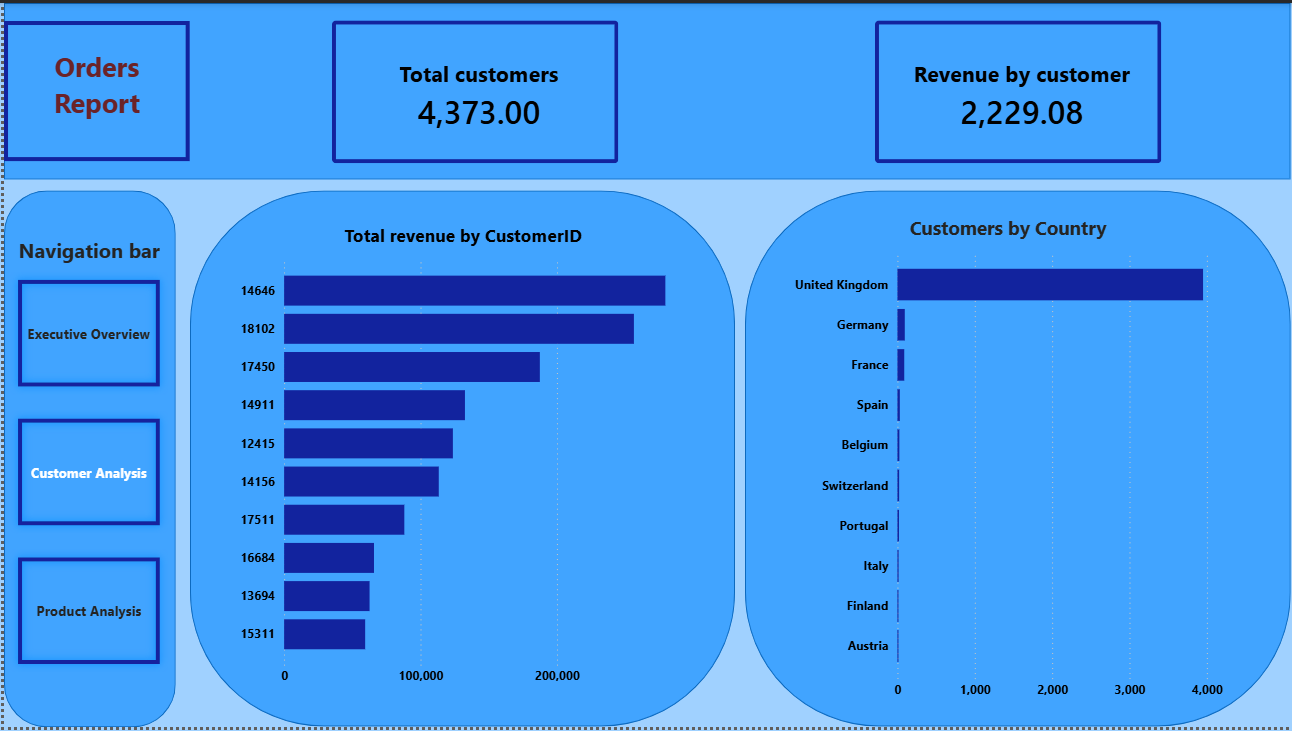

What the dashboard file says about the page in this screenshot:
{"tool":"powerbi","page":{"name":"Customer Analysis","canvas":[1280,720],"ordinal":1},"visuals":[{"type":"shape","box":[0,186.1,170.8,533.9],"z":0},{"type":"shape","box":[184.8,186.7,542,533],"z":1000},{"type":"shape","box":[0,0,1279.5,175.6],"z":2000},{"type":"textbox","box":[0,18.2,184.7,139.3],"z":3000},{"type":"cardVisual","fields":{"Data":["orders.total_customers"]},"box":[308.3,0,319,176],"z":4000},{"type":"shape","box":[736.3,186.7,542.7,533],"z":5000},{"type":"clusteredBarChart","title":"Total revenue by CustomerID","fields":{"Category":["orders.CustomerID"],"Y":["orders.total_revenue"]},"box":[227.6,218.8,457.1,467.8],"z":7000},{"type":"clusteredBarChart","title":"Customers by Country","fields":{"Category":["orders.Country"],"Y":["Count(orders.CustomerID)"]},"box":[780.1,210.1,436.7,490.2],"z":7001},{"type":"cardVisual","fields":{"Data":["orders.revenue_by_customer"]},"box":[848.1,0,319,176],"z":7002},{"type":"pageNavigator","title":"Navigation bar","box":[6.1,233.2,157.5,434.6],"z":7003}]}

Visuals, with their boxes in screenshot pixels (x1, y1, x2, y2), scaled from the page's 1280x720 canvas onto the 1292x731 screenshot:
shape: <bbox>0, 189, 172, 730</bbox>
shape: <bbox>187, 190, 734, 730</bbox>
shape: <bbox>0, 0, 1291, 178</bbox>
textbox: <bbox>0, 18, 186, 160</bbox>
cardVisual - orders.total_customers: <bbox>311, 0, 633, 179</bbox>
shape: <bbox>743, 190, 1291, 730</bbox>
"Total revenue by CustomerID" clusteredBarChart: <bbox>230, 222, 691, 697</bbox>
"Customers by Country" clusteredBarChart: <bbox>787, 213, 1228, 711</bbox>
cardVisual - orders.revenue_by_customer: <bbox>856, 0, 1178, 179</bbox>
"Navigation bar" pageNavigator: <bbox>6, 237, 165, 678</bbox>
